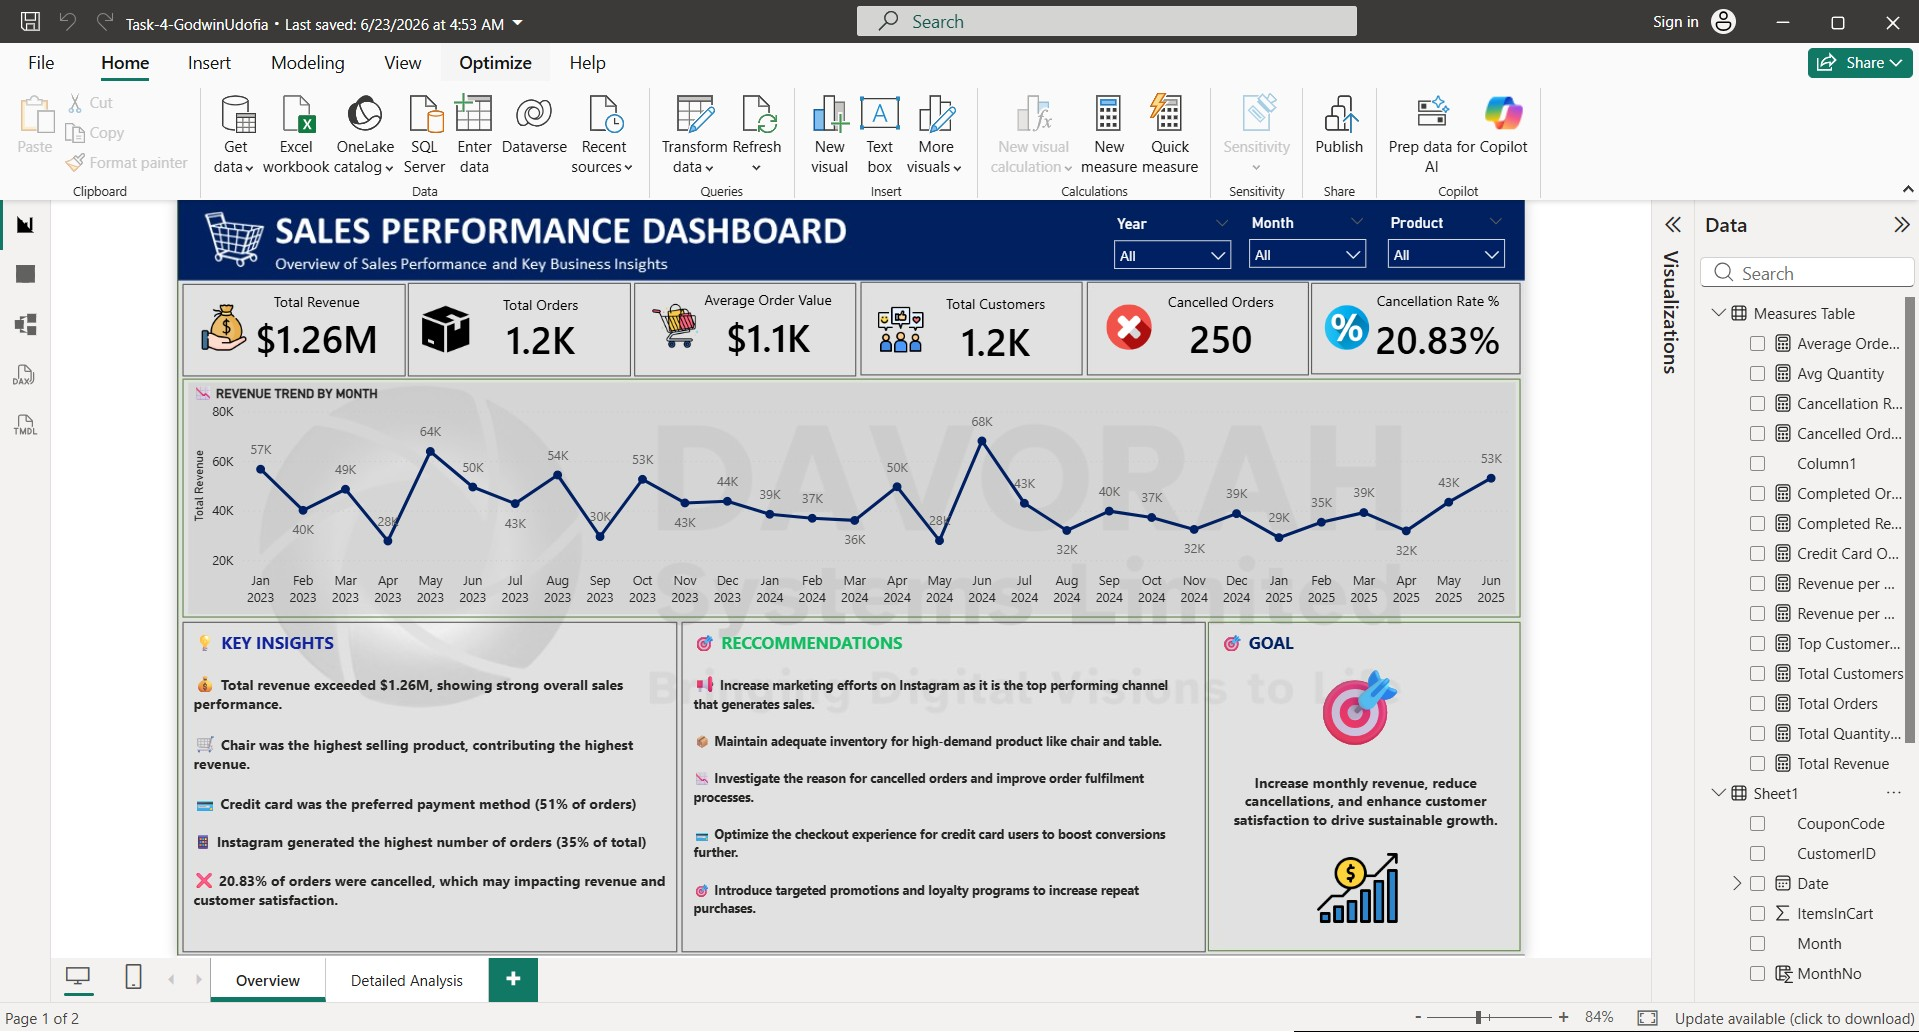

Layout of this report page (visuals, bound fields, positions):
{"tool":"powerbi","page":{"name":"Overview","canvas":[1280,720],"ordinal":0},"visuals":[{"type":"cardVisual","title":"Total Revenue","fields":{"Data":["Measures Table.Total Revenue"]},"box":[10.7,80.7,200.7,80.7],"z":0},{"type":"cardVisual","title":"Total Revenue","fields":{"Data":["Measures Table.Total Orders"]},"box":[220.8,84.3,204.2,77.2],"z":1000},{"type":"cardVisual","title":"Total Revenue","fields":{"Data":["Measures Table.Cancellation Rate %"]},"box":[1081.7,84.3,190,73.6],"z":2000},{"type":"cardVisual","title":"Total Revenue","fields":{"Data":["Measures Table.Cancelled Orders"]},"box":[866.8,80.7,206.6,80.7],"z":3000},{"type":"cardVisual","title":"Total Revenue","fields":{"Data":["Measures Table.Total Customers"]},"box":[653,83.1,204.2,80.7],"z":4000},{"type":"cardVisual","title":"Total Revenue","fields":{"Data":["Measures Table.Average Order Value"]},"box":[439.3,80.7,200.7,77.2],"z":5000},{"type":"lineChart","title":"📉 REVENUE TREND BY MONTH","fields":{"Category":["Sheet1.MonthYear"],"Y":["Measures Table.Total Revenue"]},"box":[10.9,172.9,1260.9,220],"z":6000},{"type":"textbox","box":[10.7,403.7,463.1,290.9],"z":7000},{"type":"textbox","box":[485.6,403.7,484.4,307.5],"z":8000},{"type":"textbox","box":[986.7,403.7,285,307.5],"z":9000},{"type":"image","box":[1011.6,612.7,219.7,81.9],"z":10000},{"type":"slicer","fields":{"Values":["Sheet1.Product"]},"box":[1139.9,8.3,131.8,60.6],"z":11000},{"type":"slicer","fields":{"Values":["Sheet1.Month"]},"box":[1008.1,8.3,131.8,60.6],"z":12000},{"type":"slicer","fields":{"Values":["Sheet1.Year"]},"box":[879.8,9.5,131.8,60.6],"z":13000}]}

Visuals, with their boxes on the page's 1280x720 design canvas (x1, y1, x2, y2). These are canvas units, not pixel positions in the 1919x1032 screenshot, which may show the page scaled, cropped or inside an application window:
"Total Revenue" cardVisual: <region>11, 81, 211, 161</region>
"Total Revenue" cardVisual: <region>221, 84, 425, 162</region>
"Total Revenue" cardVisual: <region>1082, 84, 1272, 158</region>
"Total Revenue" cardVisual: <region>867, 81, 1073, 161</region>
"Total Revenue" cardVisual: <region>653, 83, 857, 164</region>
"Total Revenue" cardVisual: <region>439, 81, 640, 158</region>
"📉 REVENUE TREND BY MONTH" lineChart: <region>11, 173, 1272, 393</region>
textbox: <region>11, 404, 474, 695</region>
textbox: <region>486, 404, 970, 711</region>
textbox: <region>987, 404, 1272, 711</region>
image: <region>1012, 613, 1231, 695</region>
slicer - Sheet1.Product: <region>1140, 8, 1272, 69</region>
slicer - Sheet1.Month: <region>1008, 8, 1140, 69</region>
slicer - Sheet1.Year: <region>880, 10, 1012, 70</region>
